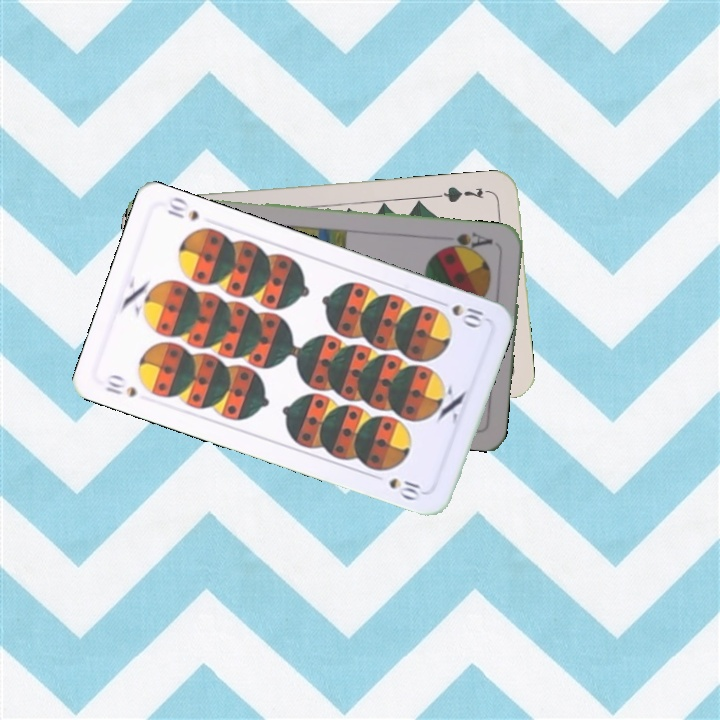G7: (435, 182, 494, 205)
S10: (432, 296, 489, 330), (101, 370, 139, 400)
SA: (439, 228, 500, 255)
